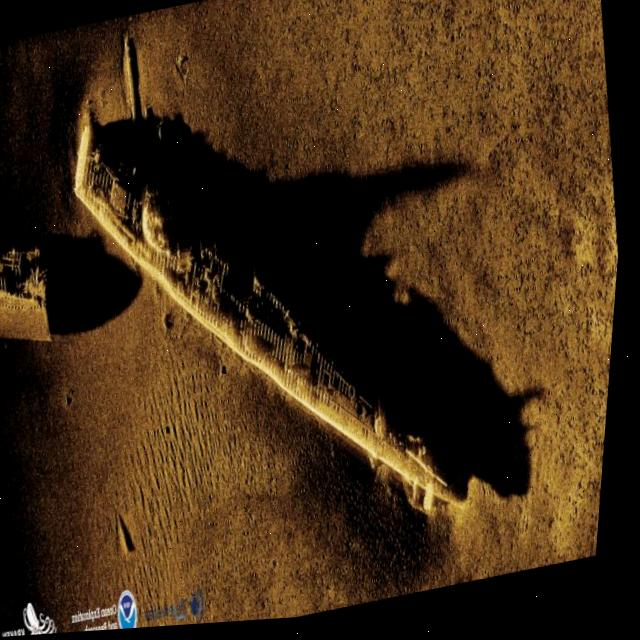shipwreck: (39, 19, 499, 597)
